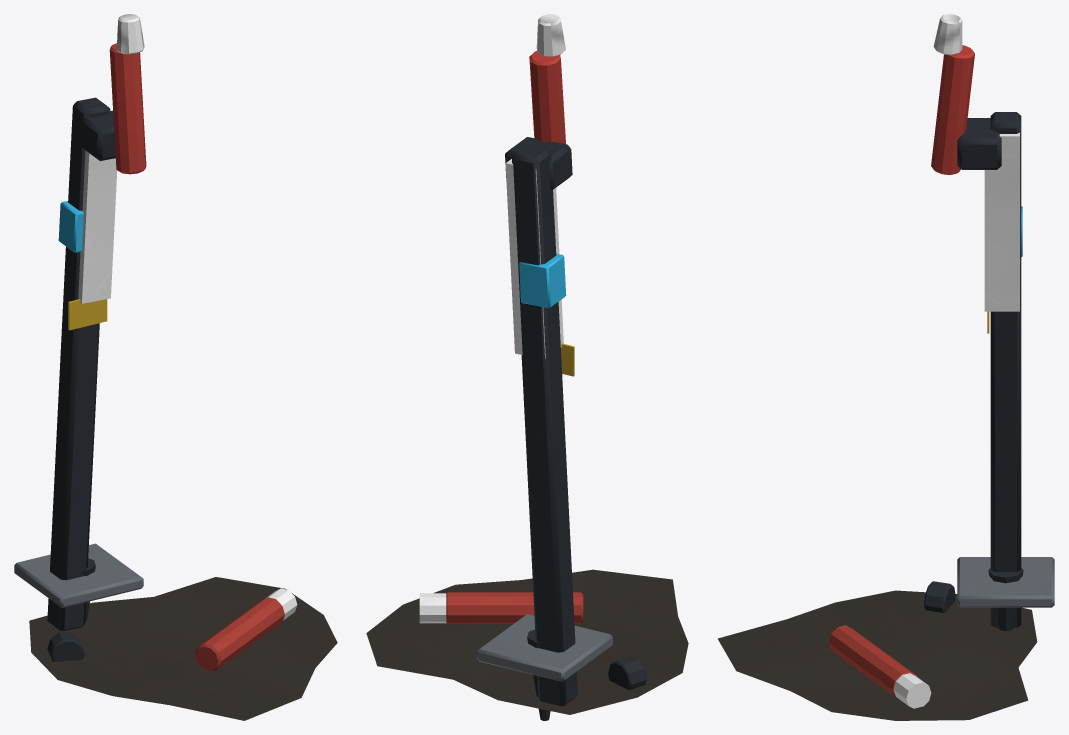
Rendered from signal_flare_post.glb.
3 views of the same model, side by side, from view 1: azimuth 30°, elevation 25°; view 2: azimuth 150°, elevation 25°; view 3: azimuth 270°, elevation 25° (orthographic). The views are drawn at different scales.
Visible parts, largest first — view 1: signal_flare_post; view 2: signal_flare_post; view 3: signal_flare_post.
Boxes of the visible parts, x1,y1,x2,y2 form: signal_flare_post: [14, 14, 337, 720]; signal_flare_post: [366, 14, 688, 720]; signal_flare_post: [718, 14, 1054, 720].
Bounding box in the file's own units: 0.7 × 1.61 × 0.7642.
Materials: 8 (8 with a texture image).
